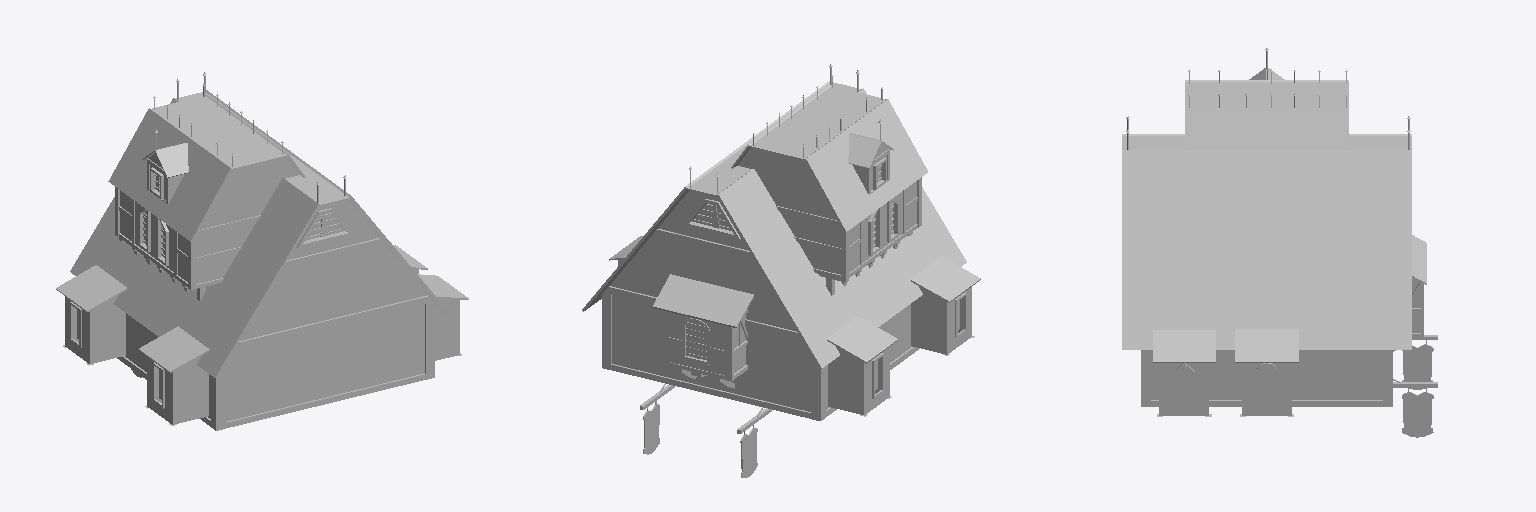
File: tavern.obj
3 renders of one model, left to right at view 1: azimuth 30°, elevation 25°; view 2: azimuth 150°, elevation 25°; view 3: azimuth 270°, elevation 25°, orthographic.
Parts seen in each view (by area): view 1: node_304_013_Mesh.068; view 2: node_304_013_Mesh.068; view 3: node_304_013_Mesh.068.
Boxes of the visible parts, <box> form: node_304_013_Mesh.068: <box>56,72,468,430</box>; node_304_013_Mesh.068: <box>582,64,980,477</box>; node_304_013_Mesh.068: <box>1122,48,1437,437</box>.
Bounding box in the file's own units: 8 × 8.08 × 7.33.